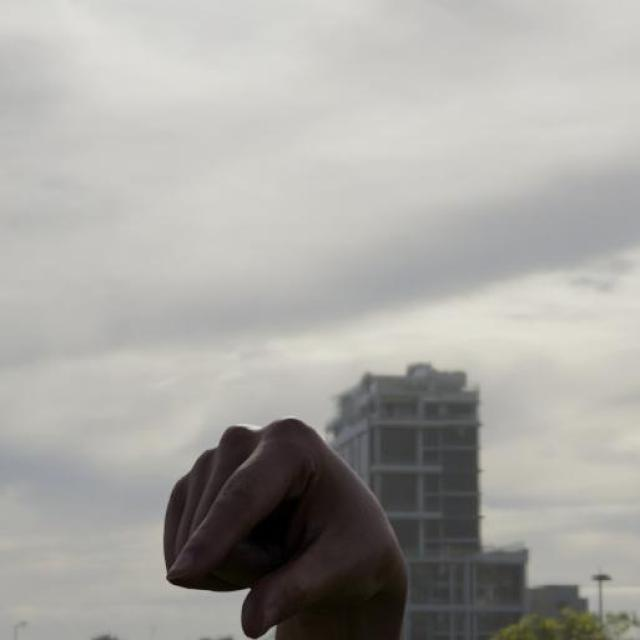Q: (160, 414, 418, 640)
